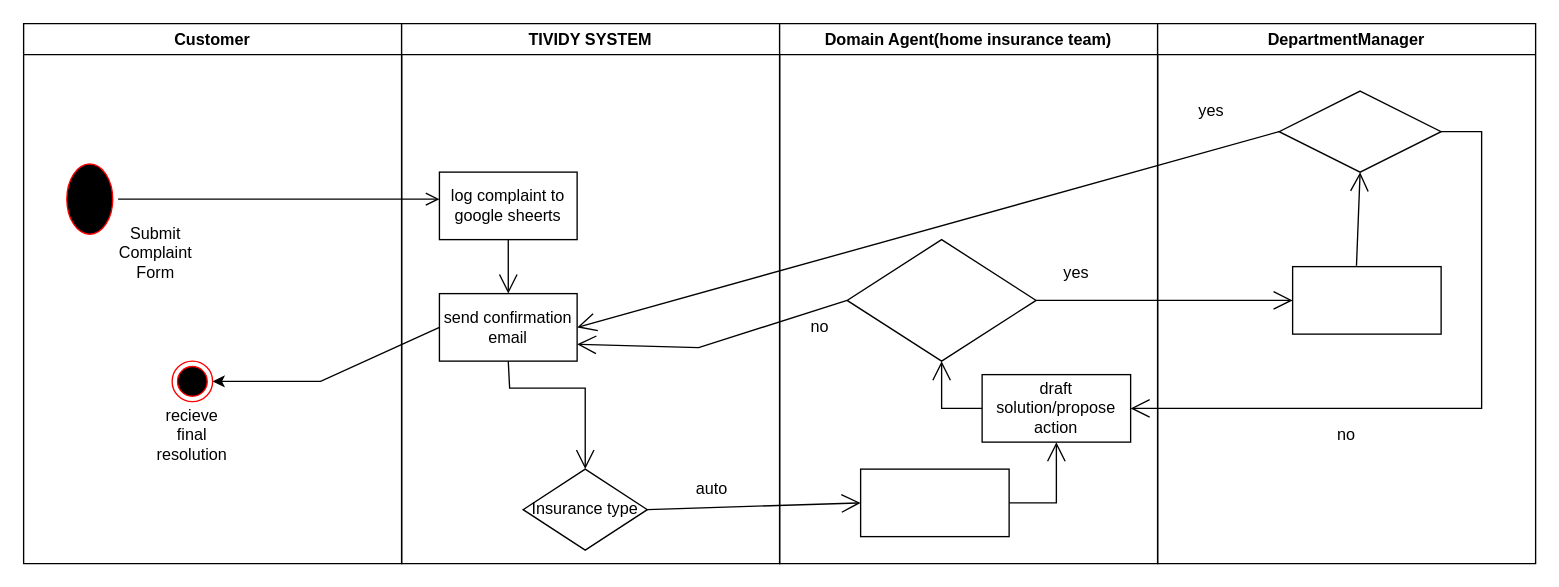
The diagram is 1559 pixels wide and 587 high, and some of its shapes have lost their labels. The shapes that lost their labels are listed below. From the top down, each one's centre as x and y in pixels, then its label:
At (1359,131): "approveaction?".
At (941,299): "financial action>threshhold?".
At (1366,299): "review escaltion".
At (934,502): "claim ticket and review details".
